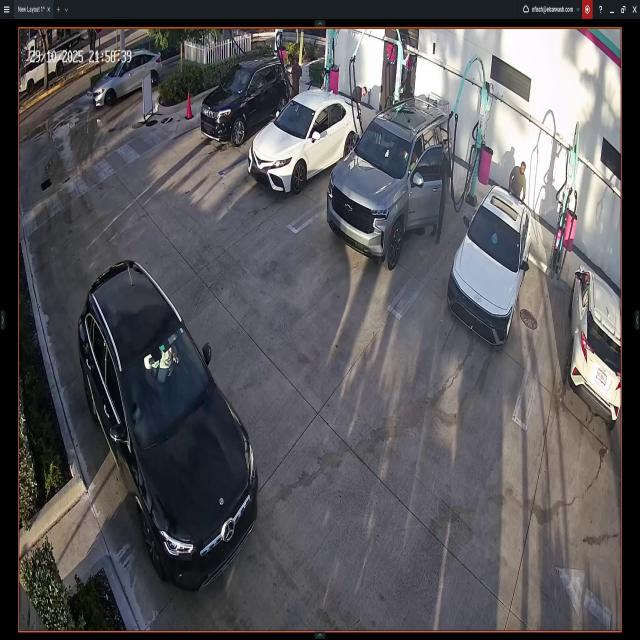Car: (74, 255, 258, 586), (330, 94, 450, 265), (452, 186, 530, 344), (249, 93, 361, 196), (568, 266, 620, 422), (200, 63, 286, 142), (90, 51, 162, 102)
